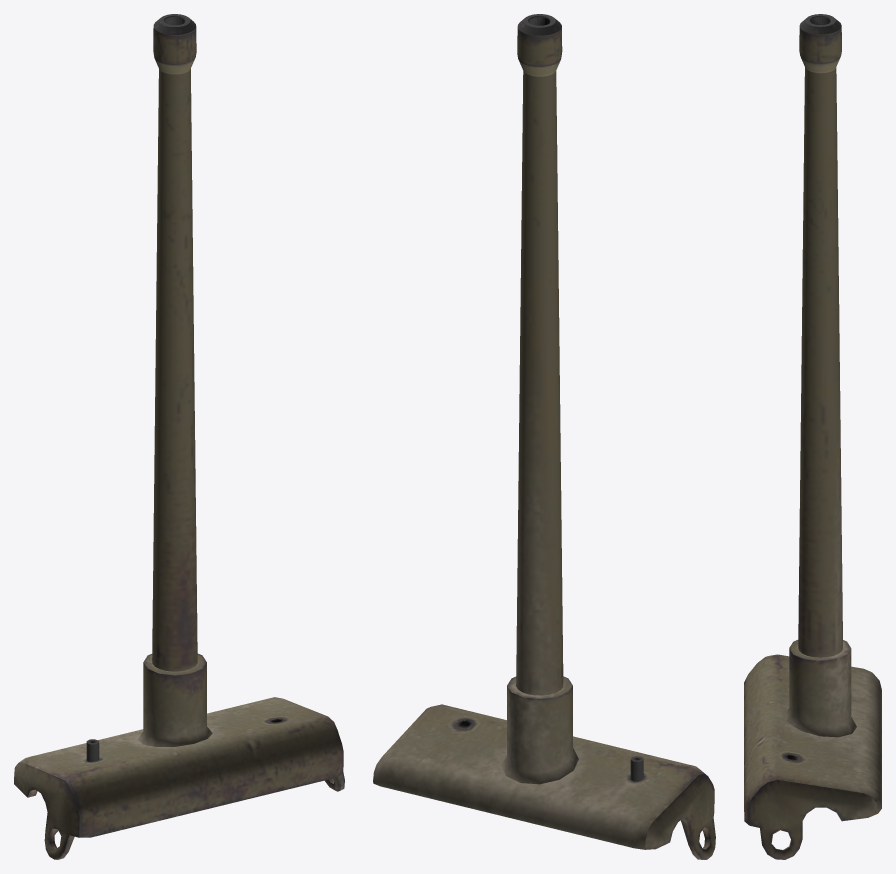
Rendered from Gun_06.glb.
3 views of the same model, side by side, from view 1: azimuth 30°, elevation 25°; view 2: azimuth 150°, elevation 25°; view 3: azimuth 270°, elevation 25° (orthographic). The views are drawn at different scales.
Visible parts, largest first — view 1: set_0_group_0; view 2: set_0_group_0; view 3: set_0_group_0.
Part boxes in pixels (bbox=[...]): set_0_group_0: bbox=[14, 14, 344, 859]; set_0_group_0: bbox=[373, 14, 715, 859]; set_0_group_0: bbox=[744, 14, 881, 859].
Size of the model in its own units: 1.23 by 3.19 by 0.5169.
1 material, 1 textured.
